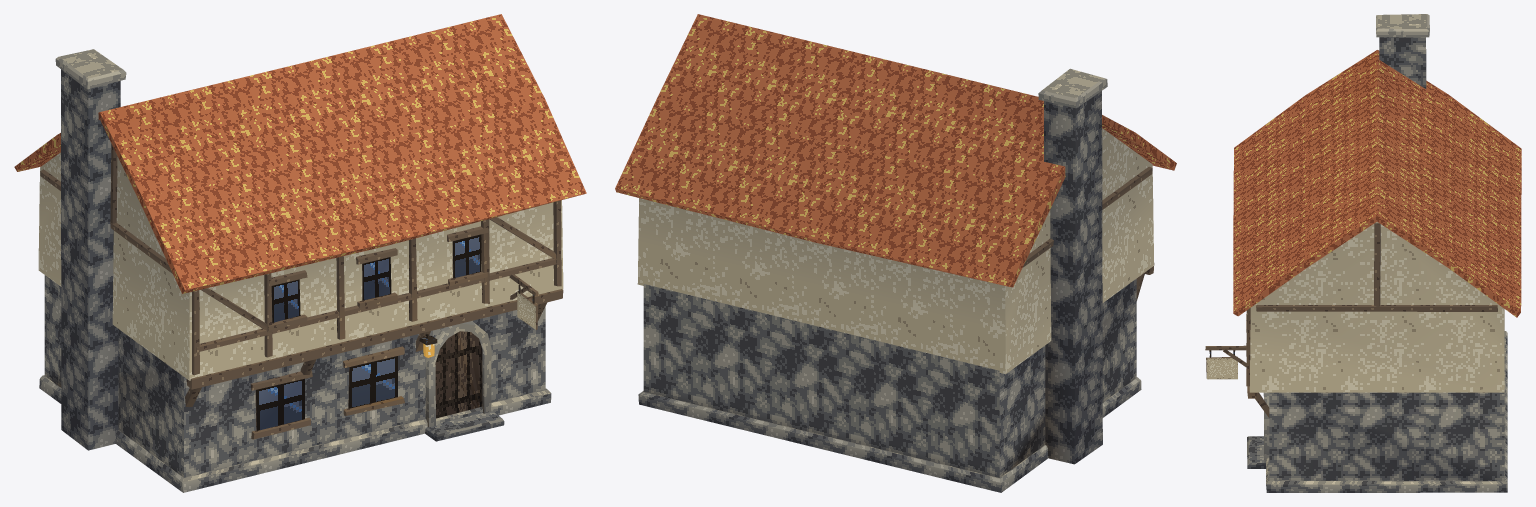
Rendered from vlg.tavern.glb.
3 renders of one model, left to right at view 1: azimuth 30°, elevation 25°; view 2: azimuth 150°, elevation 25°; view 3: azimuth 270°, elevation 25°, orthographic. The views are drawn at different scales.
Parts seen in each view (by area): view 1: kit_roof, kit_walls, kit_stonework, kit_fittings, kit_frame; view 2: kit_walls, kit_roof, kit_stonework, kit_frame; view 3: kit_walls, kit_roof, kit_stonework, kit_frame, kit_fittings.
Boxes of the visible parts, box(x1,y1,x2,y2) form: kit_roof: box(14, 14, 586, 293); kit_walls: box(38, 152, 563, 477); kit_stonework: box(39, 49, 551, 492); kit_fittings: box(250, 226, 538, 441); kit_frame: box(40, 144, 563, 407); kit_walls: box(637, 128, 1154, 477); kit_roof: box(615, 14, 1176, 287); kit_stonework: box(638, 68, 1141, 492); kit_frame: box(1022, 166, 1154, 300); kit_walls: box(1249, 222, 1504, 481); kit_roof: box(1233, 50, 1521, 317); kit_stonework: box(1266, 14, 1507, 492); kit_frame: box(1246, 223, 1497, 417); kit_fittings: box(1205, 314, 1269, 468).
Size of the model in its own units: 10.35 by 8.87 by 8.06.
11 materials, 11 textured.
